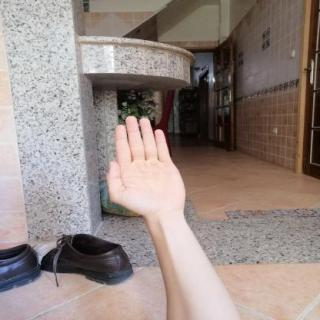SEEN: (99, 110, 192, 222)
